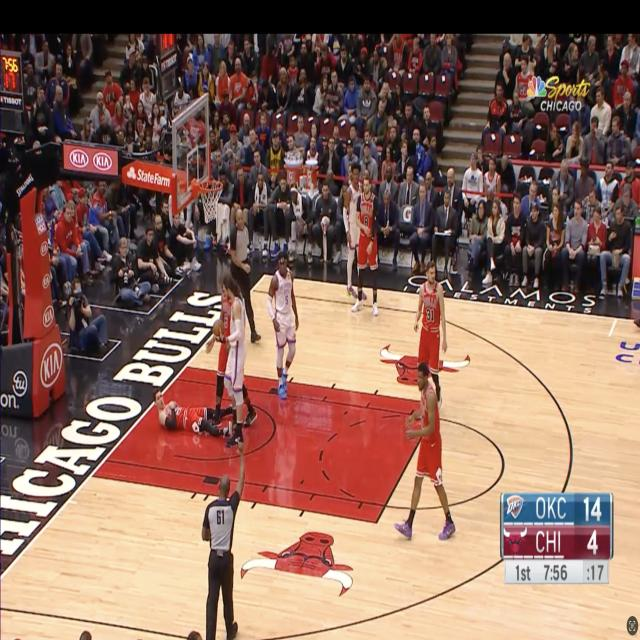foul: (156, 272, 258, 449)
